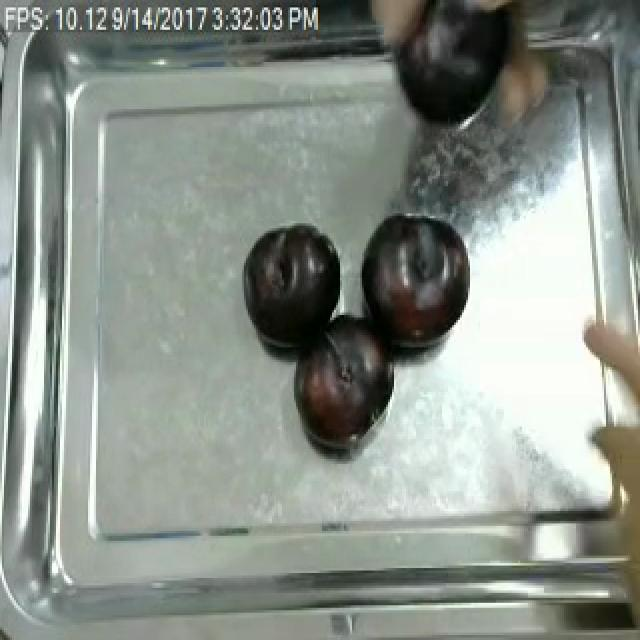Fruit: (354, 206, 474, 357), (390, 0, 516, 131), (288, 308, 392, 457), (238, 221, 344, 352)
